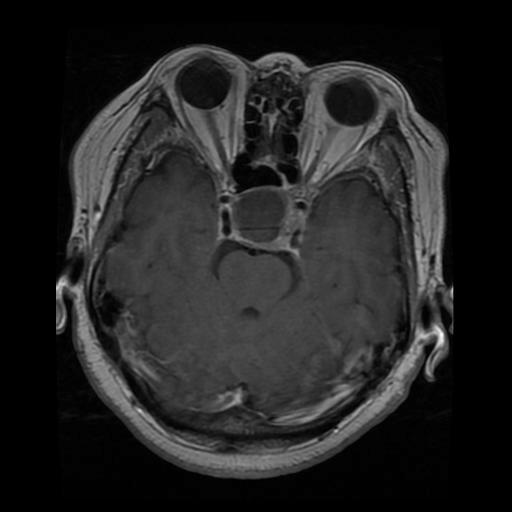Tumour-Pituitary: (216, 194, 316, 251)
